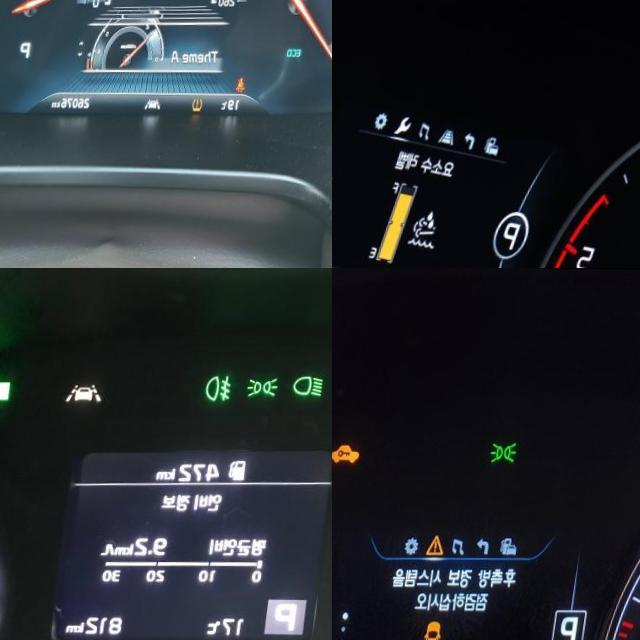Central Warning lamp: (435, 533, 456, 555)
FrontFogLight: (210, 372, 241, 401)
LaneCenteringOff: (72, 381, 114, 403), (158, 97, 175, 109)
Low beam: (299, 373, 332, 395)
SideLamp: (253, 375, 286, 397), (496, 439, 525, 463)
